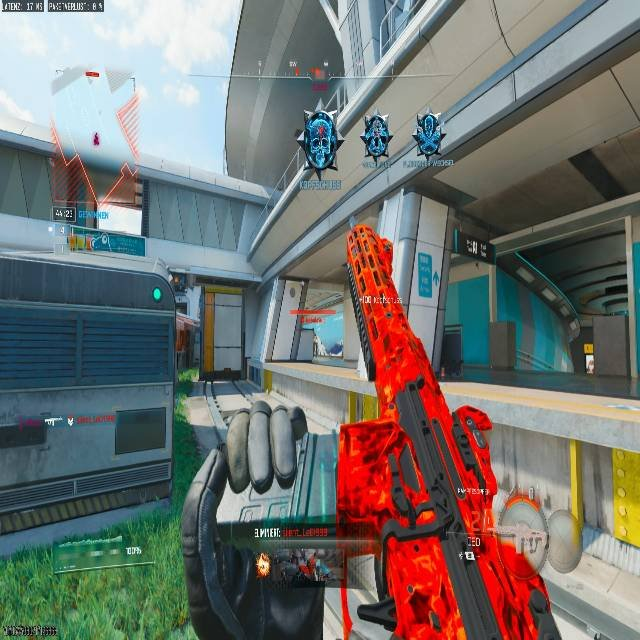head: (422, 114, 436, 130)
player: (360, 113, 392, 166), (411, 114, 446, 158), (313, 332, 327, 357)
